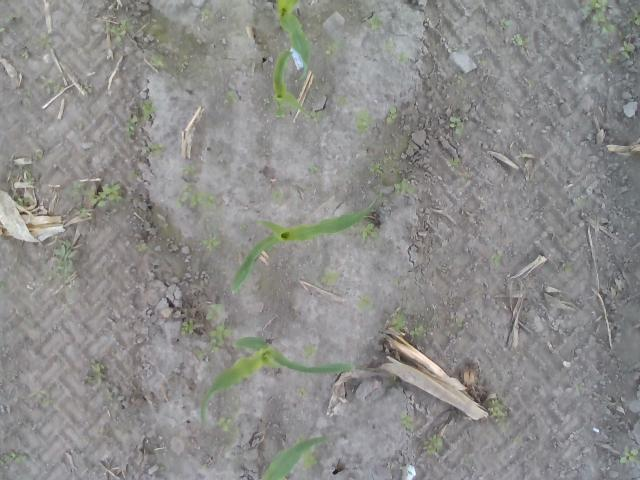Maize: (201, 336, 351, 426), (228, 202, 374, 293), (257, 435, 327, 480), (272, 0, 312, 78), (270, 46, 306, 118)
Weeds: (48, 238, 80, 284), (82, 362, 114, 400), (175, 183, 216, 208), (95, 179, 124, 208), (206, 324, 234, 354), (487, 398, 511, 432), (105, 19, 130, 48), (577, 0, 605, 22), (354, 108, 373, 136), (133, 98, 157, 120), (422, 430, 444, 454), (127, 112, 144, 141), (62, 178, 84, 199), (218, 415, 234, 443), (392, 177, 417, 194), (617, 446, 640, 464), (324, 40, 346, 57), (180, 318, 200, 336), (205, 303, 225, 321), (357, 223, 378, 240), (0, 452, 28, 464), (366, 14, 384, 32), (32, 390, 50, 408), (304, 450, 322, 468), (0, 15, 17, 34), (391, 310, 408, 329), (384, 104, 398, 126), (12, 192, 34, 206), (355, 295, 374, 311), (150, 55, 170, 70), (46, 79, 64, 95), (448, 116, 464, 134), (302, 342, 318, 360), (620, 40, 635, 59), (320, 271, 340, 285), (303, 112, 329, 122), (202, 239, 222, 252), (82, 186, 98, 202), (368, 160, 384, 176), (409, 322, 427, 336), (144, 143, 164, 155), (177, 54, 190, 72), (38, 32, 52, 48), (511, 33, 528, 46), (399, 414, 412, 431), (382, 150, 400, 162), (222, 90, 237, 104), (192, 348, 208, 361), (602, 21, 617, 34), (200, 6, 212, 22), (630, 7, 640, 26), (79, 81, 93, 94), (22, 166, 32, 184), (156, 458, 167, 474), (489, 253, 501, 267), (135, 238, 146, 253), (498, 18, 514, 28), (32, 147, 44, 160), (304, 163, 320, 172), (272, 190, 284, 202), (145, 24, 162, 32), (511, 434, 522, 445), (574, 382, 586, 392), (337, 96, 349, 106), (182, 164, 192, 176), (398, 54, 409, 64), (239, 223, 250, 233), (452, 74, 462, 84), (562, 263, 572, 273), (78, 207, 88, 217), (448, 159, 459, 168), (606, 56, 618, 64), (20, 50, 30, 59), (22, 88, 32, 97), (296, 387, 304, 398), (392, 276, 402, 284), (130, 168, 140, 176), (0, 279, 8, 289), (296, 434, 306, 442), (239, 32, 248, 40), (527, 80, 536, 88), (456, 319, 464, 328), (390, 374, 397, 384), (454, 46, 464, 52), (220, 395, 225, 401)
